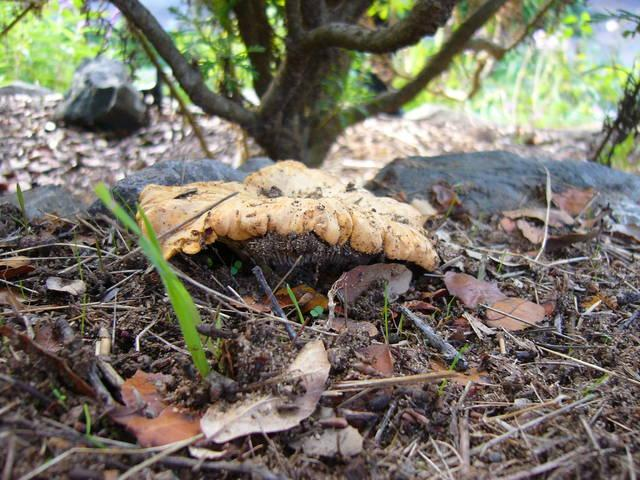edible_mushroom: (135, 158, 440, 287)
